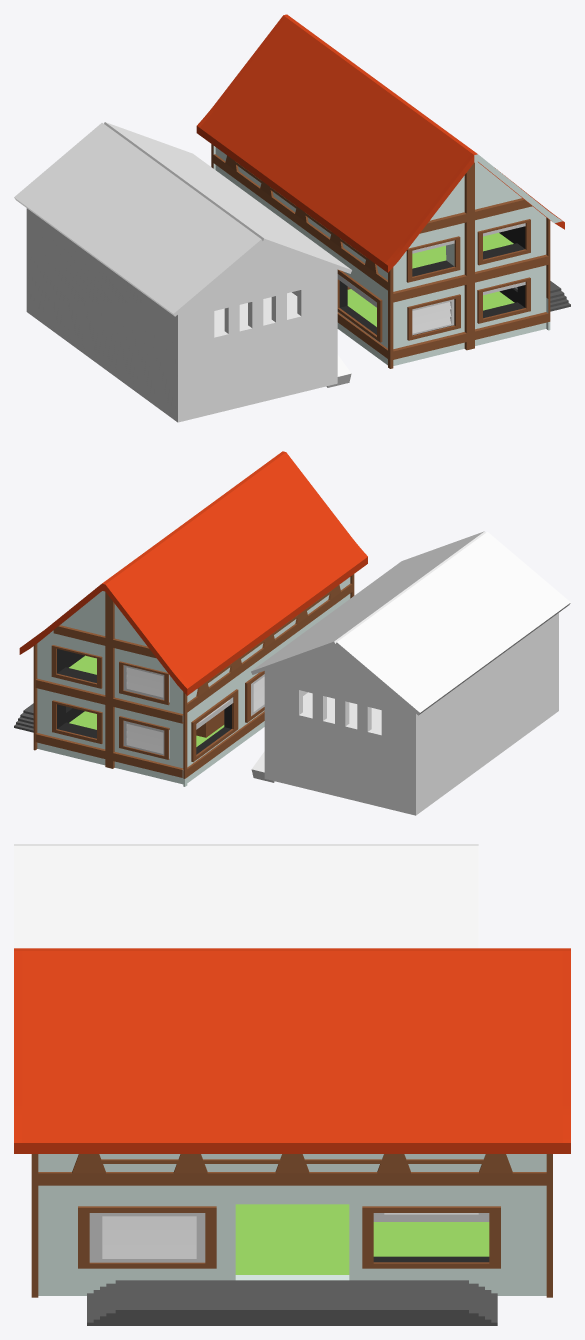
The model's file is Bighouse_done.fbx.
3 renders of one model, top to bottom at view 1: azimuth 30°, elevation 25°; view 2: azimuth 150°, elevation 25°; view 3: azimuth 270°, elevation 25°, orthographic. The views are drawn at different scales.
Visible parts, largest first — view 1: Cube__13_, Woods.002, Woods, Woods.004, Woods.003, Woods.006, Woods.007, Cube.013; view 2: Cube__13_, Woods.002, Woods, Woods.004, Woods.003, Woods.006, Cube.006, Cube.007, Woods.007, Cube.002; view 3: Woods.002, Cube__13_, Woods, Woods.005, Woods.004, Woods.007, Woods.003, Cube.003, Cube.005, Woods.006.
Boxes of the visible parts, box(x1,y1,x2,y2) form: Cube__13_: box(14, 122, 351, 422); Woods.002: box(196, 14, 564, 272); Woods: box(213, 146, 562, 365); Woods.004: box(211, 144, 550, 368); Woods.003: box(337, 219, 530, 342); Woods.006: box(339, 226, 525, 335); Woods.007: box(347, 232, 514, 326); Cube.013: box(412, 299, 454, 335); Cube__13_: box(251, 531, 570, 815); Woods.002: box(19, 451, 367, 695); Woods: box(37, 577, 350, 786); Woods.004: box(33, 574, 354, 778); Woods.003: box(51, 645, 264, 762); Woods.006: box(57, 649, 231, 754); Cube.006: box(123, 720, 169, 758); Cube.007: box(123, 665, 169, 702); Woods.007: box(69, 655, 224, 746); Cube.002: box(251, 674, 264, 715); Woods.002: box(14, 948, 570, 1153); Cube__13_: box(14, 844, 478, 948); Woods: box(38, 1154, 546, 1295); Woods.005: box(87, 1280, 497, 1325); Woods.004: box(31, 1154, 552, 1297); Woods.007: box(235, 1204, 489, 1274); Woods.003: box(78, 1206, 500, 1268); Cube.003: box(89, 1213, 205, 1262); Cube.005: box(373, 1213, 489, 1221); Woods.006: box(373, 1256, 489, 1262).
Size of the model in its own units: 5816 by 2873 by 4554.
